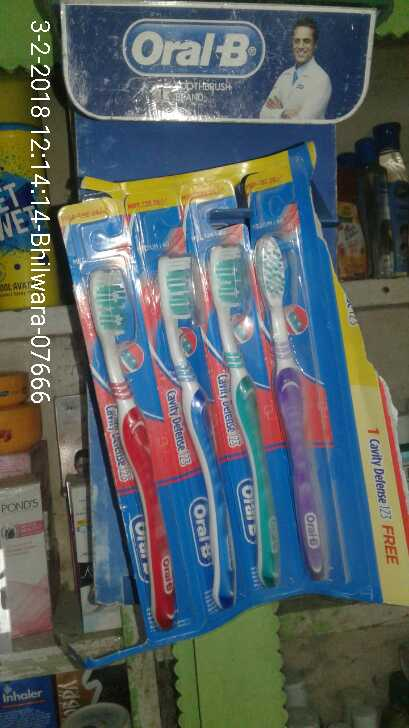oralb: (83, 247, 186, 636), (247, 216, 338, 597), (152, 243, 240, 609), (210, 236, 293, 604)
